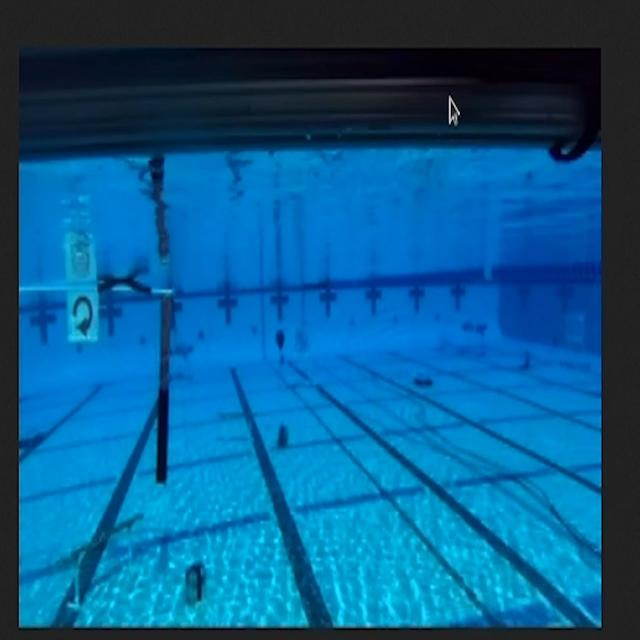Gate: (24, 278, 177, 494)
